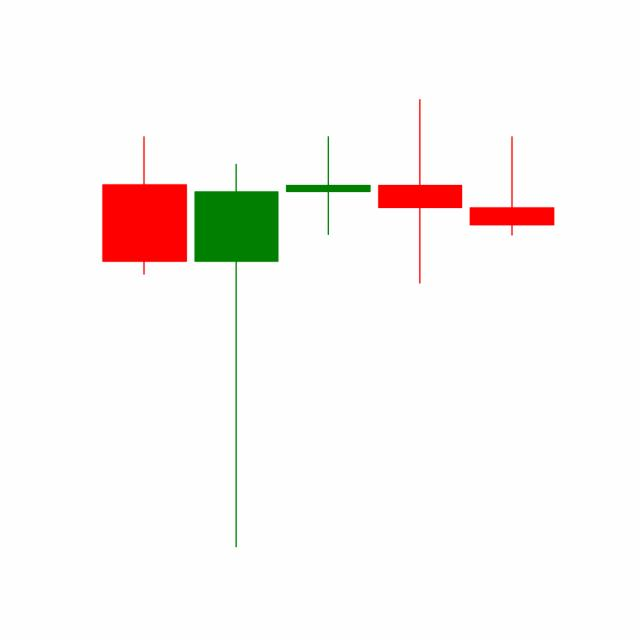Gravestone Doji: (464, 134, 558, 237)
